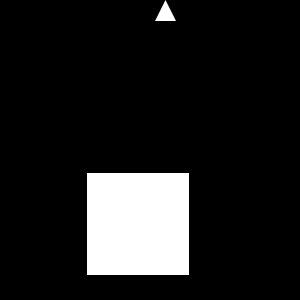circle: (87, 173, 189, 275)
triangle: (155, 0, 176, 21)
